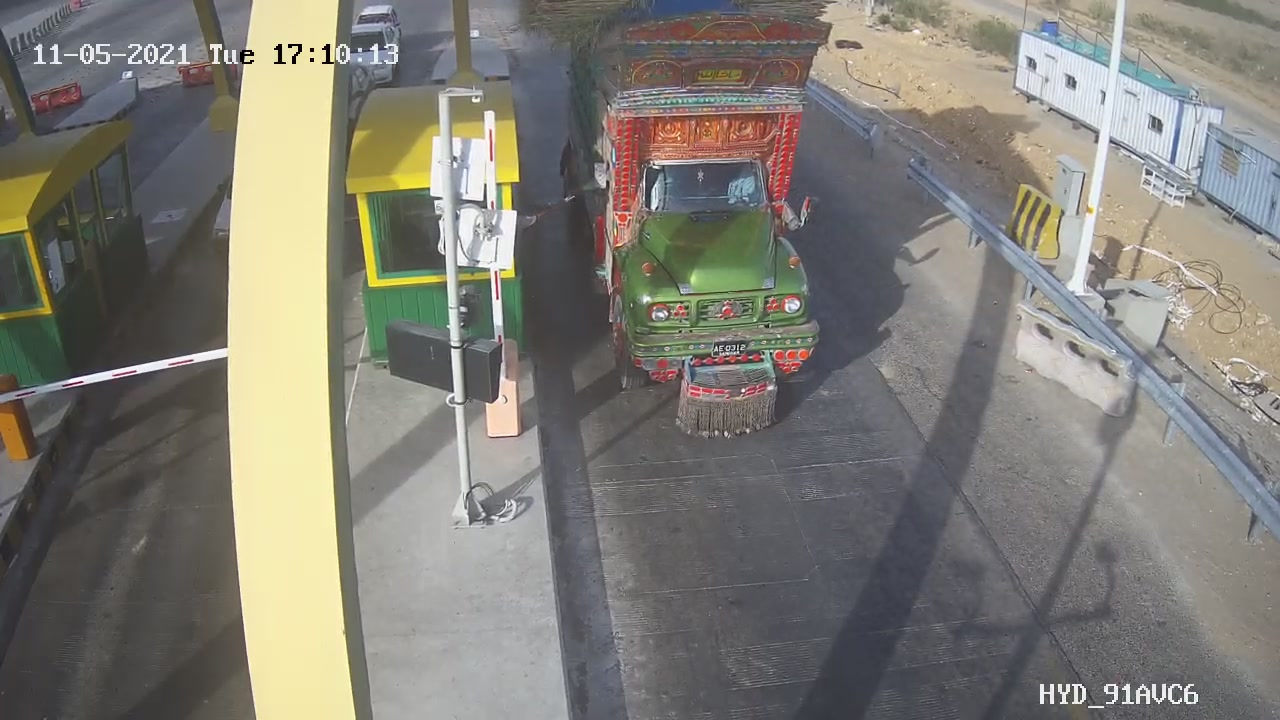F5: (529, 1, 874, 464)
